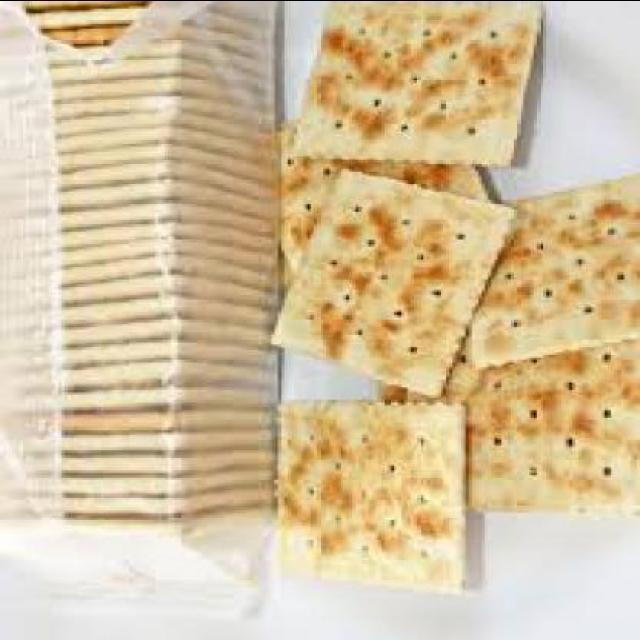Cracker packaged: (268, 173, 526, 387), (258, 387, 478, 610), (294, 2, 536, 168)
